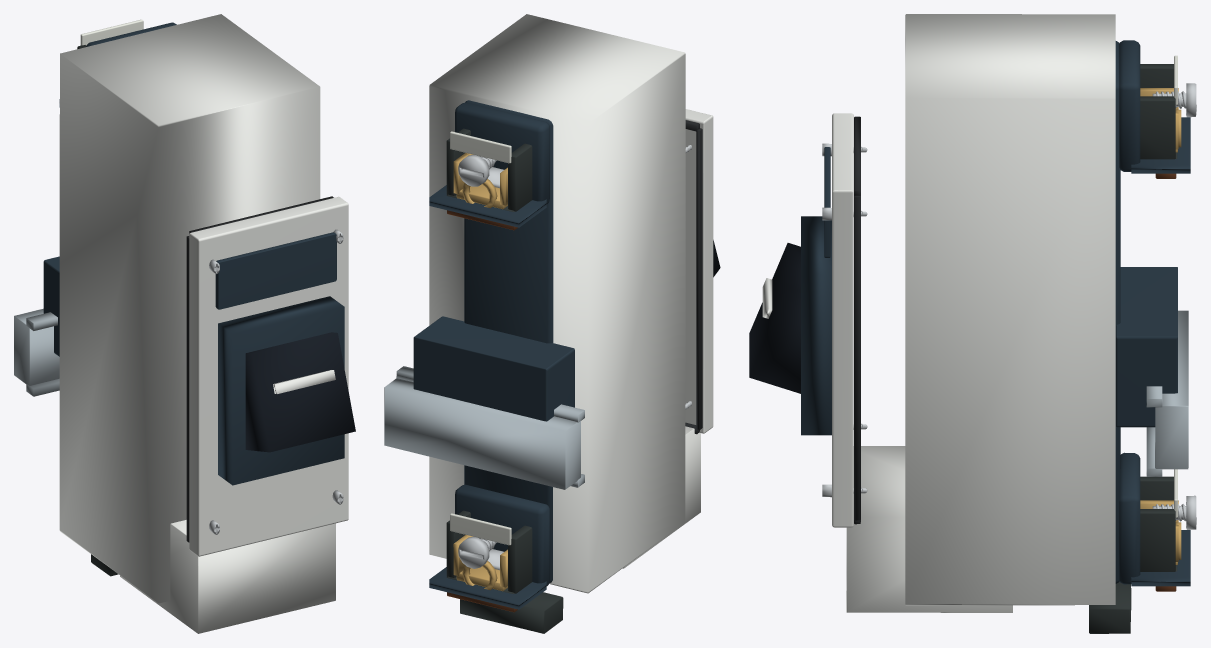
The model's file is mcb_default.low.glb.
3 views of the same model, side by side, from view 1: azimuth 30°, elevation 25°; view 2: azimuth 150°, elevation 25°; view 3: azimuth 270°, elevation 25° (orthographic). The views are drawn at different scales.
Visible parts, largest first — view 1: part:body · Original 7dbee62c, part:cover, part:actuator, motion:toggle, part:mounting · Original 2a8198d3, detail:enclosure-gasket-and-fixings · Detail rubber gasket, part:body, Moulded terminal legend pad; view 2: part:body · Original 7dbee62c, part:terminals · Original a463fd81, part:mounting · Original 2a8198d3, part:body, part:cover, detail:enclosure-gasket-and-fixings · Detail rubber gasket, DIN spring slider, detail:terminal-clamp:OUT · Detail moulded engineering polym, detail:terminal-clamp:IN · Detail moulded engineering polyme, detail:terminal-clamp:IN · Detail machined brass, detail:terminal-clamp:OUT · Detail machined brass, Moulded terminal legend pad (+3 smaller); view 3: part:body · Original 7dbee62c, part:terminals · Original a463fd81, part:cover, part:body, part:actuator, motion:toggle, part:mounting · Original 2a8198d3, detail:terminal-clamp:IN · Detail moulded engineering polyme, detail:terminal-clamp:OUT · Detail moulded engineering polym, detail:enclosure-gasket-and-fixings · Detail rubber gasket, DIN spring slider, detail:terminal-clamp:IN · Detail zinc plated fixing.
Boxes of the visible parts, x1,y1,x2,y2 form: part:body · Original 7dbee62c: (59, 14, 335, 633); part:cover: (189, 196, 348, 556); part:actuator: (218, 296, 344, 485); motion:toggle: (245, 332, 355, 452); part:mounting · Original 2a8198d3: (14, 308, 59, 396); detail:enclosure-gasket-and-fixings · Detail rubber gasket: (186, 196, 333, 542); part:body: (43, 256, 59, 356); Moulded terminal legend pad: (80, 19, 143, 45); part:body · Original 7dbee62c: (429, 14, 700, 593); part:terminals · Original a463fd81: (429, 100, 553, 609); part:mounting · Original 2a8198d3: (384, 366, 584, 489); part:body: (413, 316, 574, 421); part:cover: (685, 109, 713, 433); detail:enclosure-gasket-and-fixings · Detail rubber gasket: (685, 120, 702, 434); DIN spring slider: (460, 592, 563, 633); detail:terminal-clamp:OUT · Detail moulded engineering polym: (446, 510, 532, 593); detail:terminal-clamp:IN · Detail moulded engineering polyme: (446, 128, 532, 211); detail:terminal-clamp:IN · Detail machined brass: (453, 153, 507, 209); detail:terminal-clamp:OUT · Detail machined brass: (453, 535, 507, 591); Moulded terminal legend pad: (450, 131, 511, 163); part:body · Original 7dbee62c: (846, 14, 1115, 612); part:terminals · Original a463fd81: (1115, 40, 1190, 586); part:cover: (824, 113, 853, 527); part:body: (1116, 267, 1177, 427); part:actuator: (801, 216, 831, 435); motion:toggle: (749, 243, 800, 393); part:mounting · Original 2a8198d3: (1146, 310, 1188, 476); detail:terminal-clamp:IN · Detail moulded engineering polyme: (1140, 64, 1177, 159); detail:terminal-clamp:OUT · Detail moulded engineering polym: (1140, 476, 1177, 571); detail:enclosure-gasket-and-fixings · Detail rubber gasket: (854, 116, 860, 524); DIN spring slider: (1089, 582, 1131, 633); detail:terminal-clamp:IN · Detail zinc plated fixing: (1152, 83, 1196, 117).
Bounding box in the file's own units: 0.3438 × 0.9306 × 0.6781.
